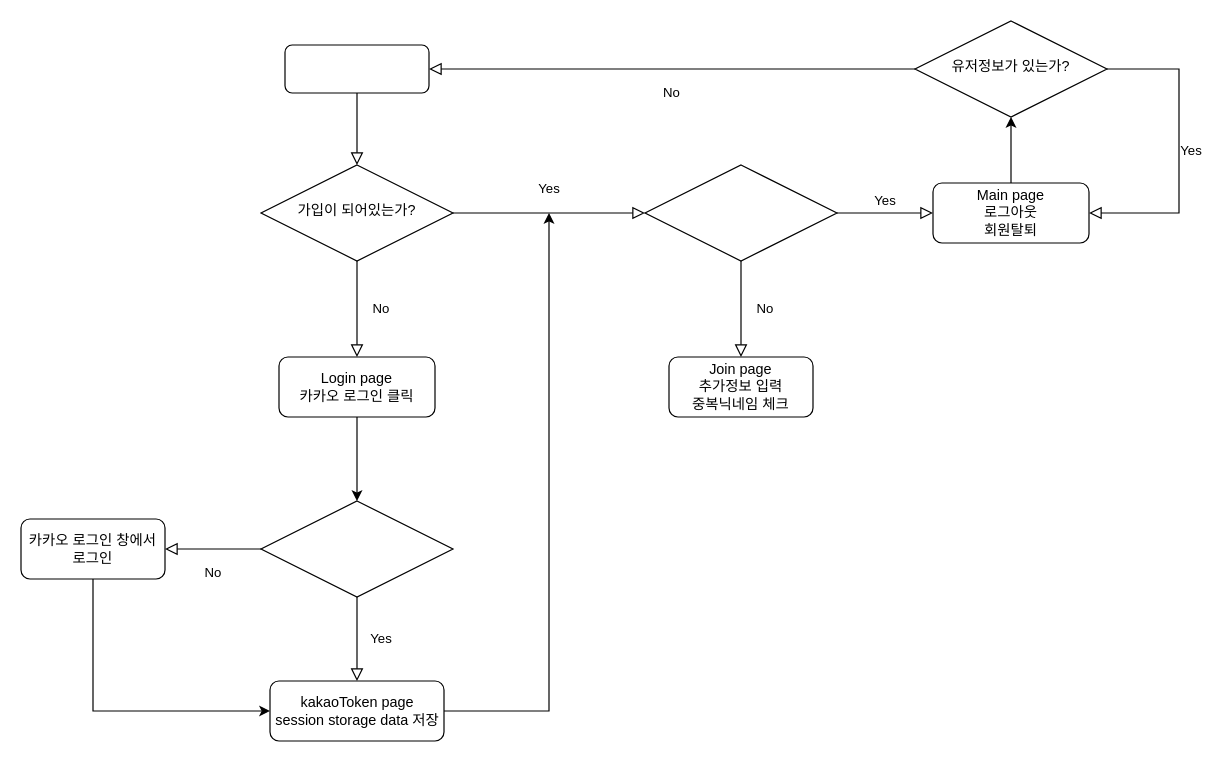
Some shapes in this 1223 by 762 pixel diagram are drawn without their labels. The shapes that lost their labels are listed below. From the top down, each one's centre as x and y in pixels, then its label:
(356,68): Home page 클릭
(740,212): 추가회원정보를 가지고 있는가? (verify)
(356,548): 브라우저에 카카오로그인 되어있는가?
